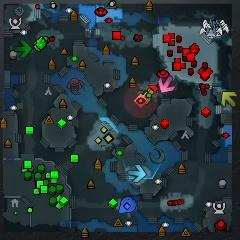Other: (134, 94, 148, 108)
p1: (119, 197, 136, 214)
x1: (158, 75, 175, 93)
x2: (221, 91, 237, 107)
x3: (127, 164, 146, 182)
x4: (13, 39, 31, 58)
